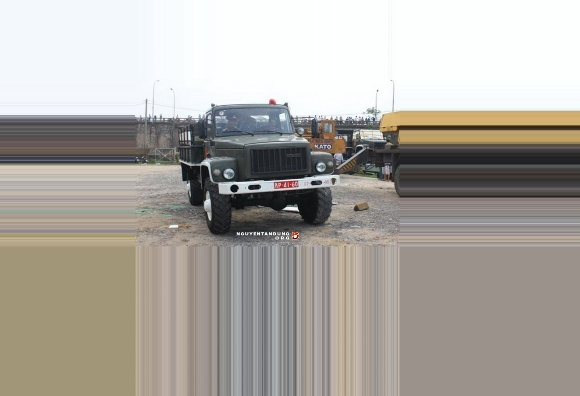plate: (274, 178, 301, 190)
